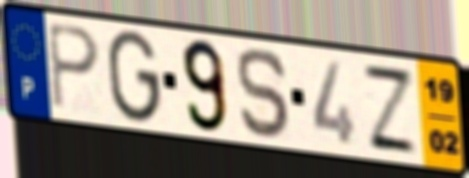4: (309, 58, 358, 147)
9: (178, 36, 231, 136)
G: (106, 27, 163, 127)
P: (45, 20, 103, 112)
S: (234, 44, 295, 142)
Z: (359, 60, 421, 158)
